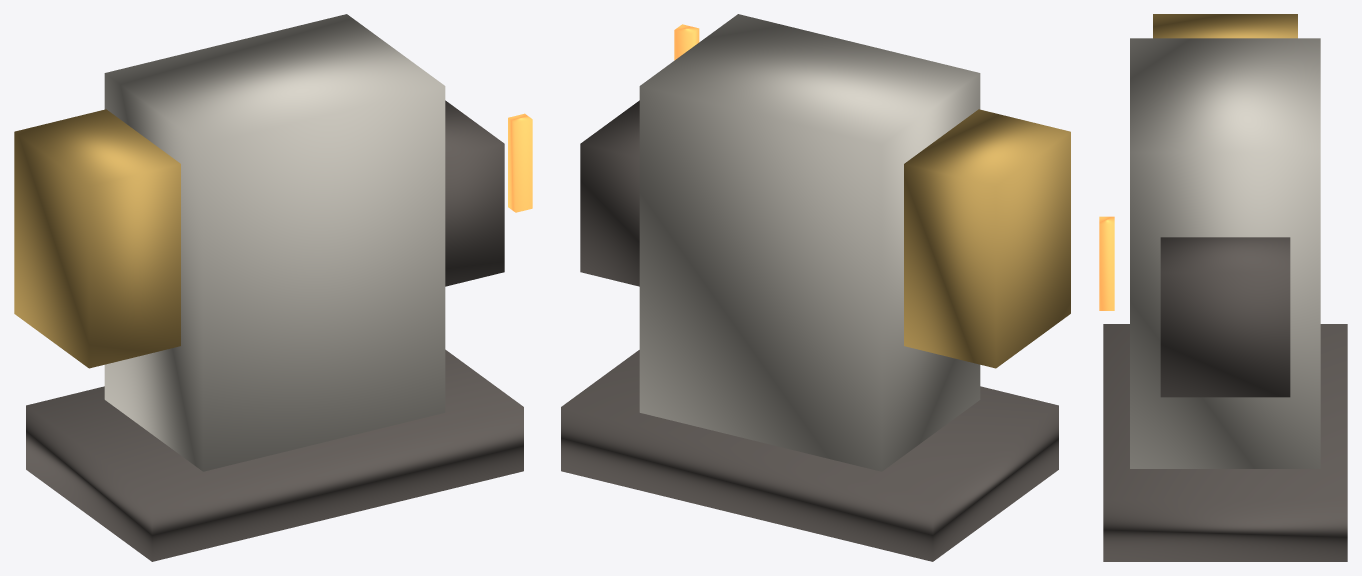
File: solar-yard-feedstock-press-lod2.glb
3 views of the same model, side by side, from view 1: azimuth 30°, elevation 25°; view 2: azimuth 150°, elevation 25°; view 3: azimuth 270°, elevation 25° (orthographic). The views are drawn at different scales.
Parts seen in each view (by area): view 1: solar-yard-feedstock-press-body, solar-yard-feedstock-press-base, solar-yard-feedstock-press-hopper, solar-yard-feedstock-press-ram, solar-yard-feedstock-press-status; view 2: solar-yard-feedstock-press-body, solar-yard-feedstock-press-base, solar-yard-feedstock-press-hopper, solar-yard-feedstock-press-ram, solar-yard-feedstock-press-status; view 3: solar-yard-feedstock-press-body, solar-yard-feedstock-press-base, solar-yard-feedstock-press-ram, solar-yard-feedstock-press-hopper, solar-yard-feedstock-press-status.
Part boxes in pixels (x1,y1,x2,y2): solar-yard-feedstock-press-body: (104,14,445,471); solar-yard-feedstock-press-base: (26,349,523,561); solar-yard-feedstock-press-hopper: (14,109,180,368); solar-yard-feedstock-press-ram: (445,100,504,286); solar-yard-feedstock-press-status: (508,113,532,212); solar-yard-feedstock-press-body: (639,14,980,471); solar-yard-feedstock-press-base: (561,350,1058,561); solar-yard-feedstock-press-hopper: (904,109,1070,368); solar-yard-feedstock-press-ram: (580,100,639,286); solar-yard-feedstock-press-status: (674,24,699,60); solar-yard-feedstock-press-body: (1130,38,1320,468); solar-yard-feedstock-press-base: (1103,324,1347,561); solar-yard-feedstock-press-ram: (1160,237,1290,397); solar-yard-feedstock-press-hopper: (1153,14,1297,38); solar-yard-feedstock-press-status: (1099,216,1114,310).
Size of the model in its own units: 2.46 by 2.19 by 1.3.
